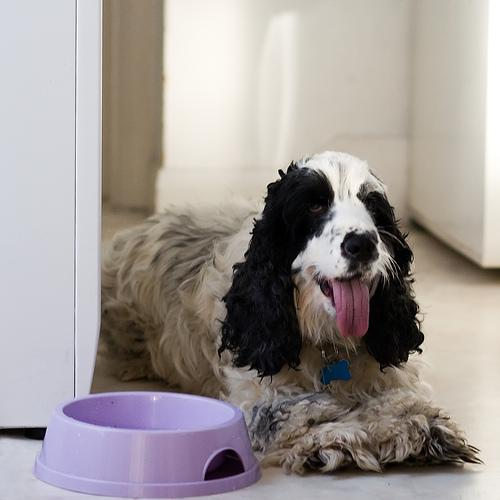dog: (222, 150, 412, 372)
